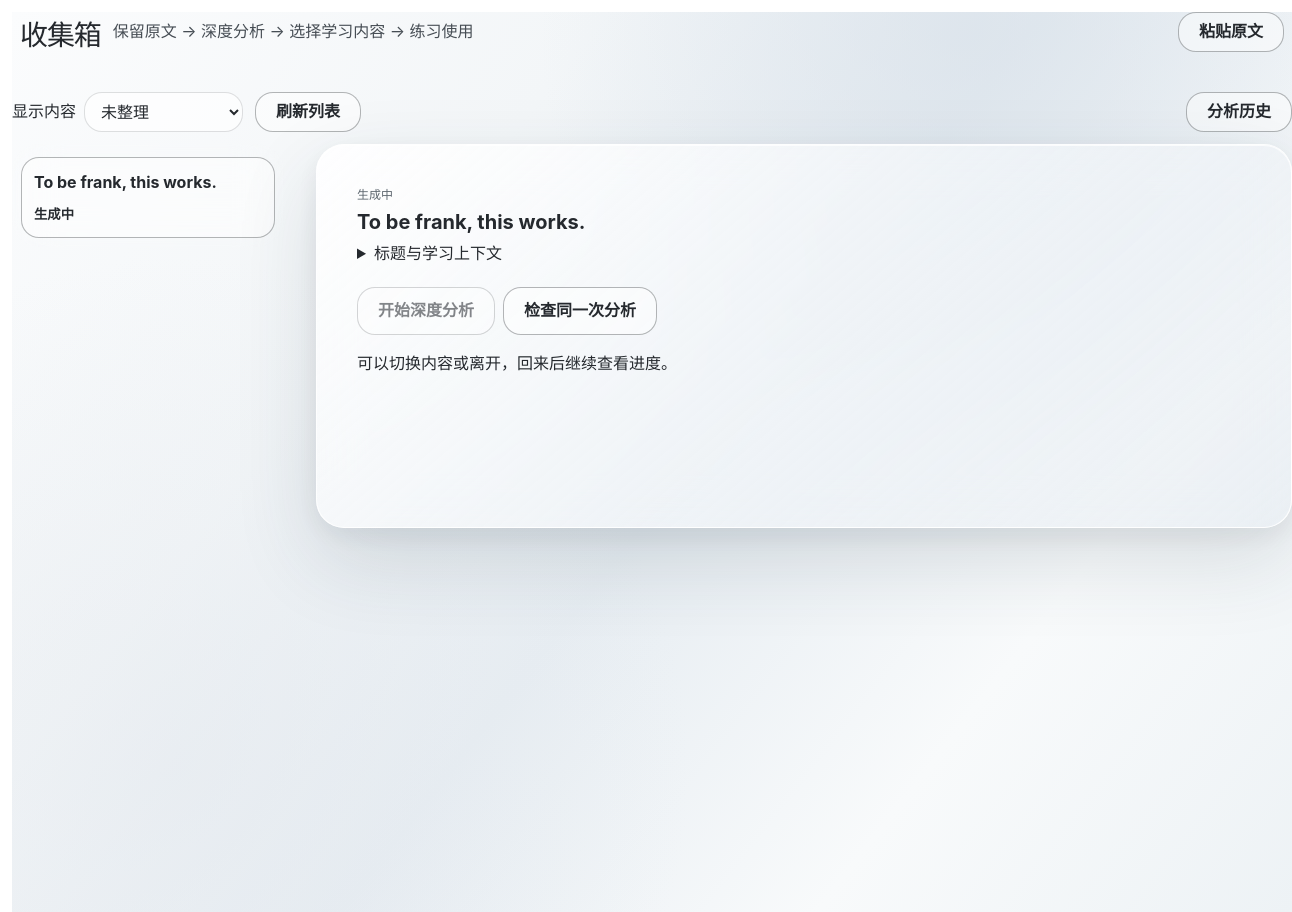
Scenario: recovers a pre-task analysis in failed state without starting another generation
The width and height of the screenshot is (1292, 912).
Check: the button "开始深度分析" is disabled, box x1=357 y1=287 x2=495 y2=335
Click the button "检查同一次分析" at (580, 311), box x1=503 y1=287 x2=657 y2=335
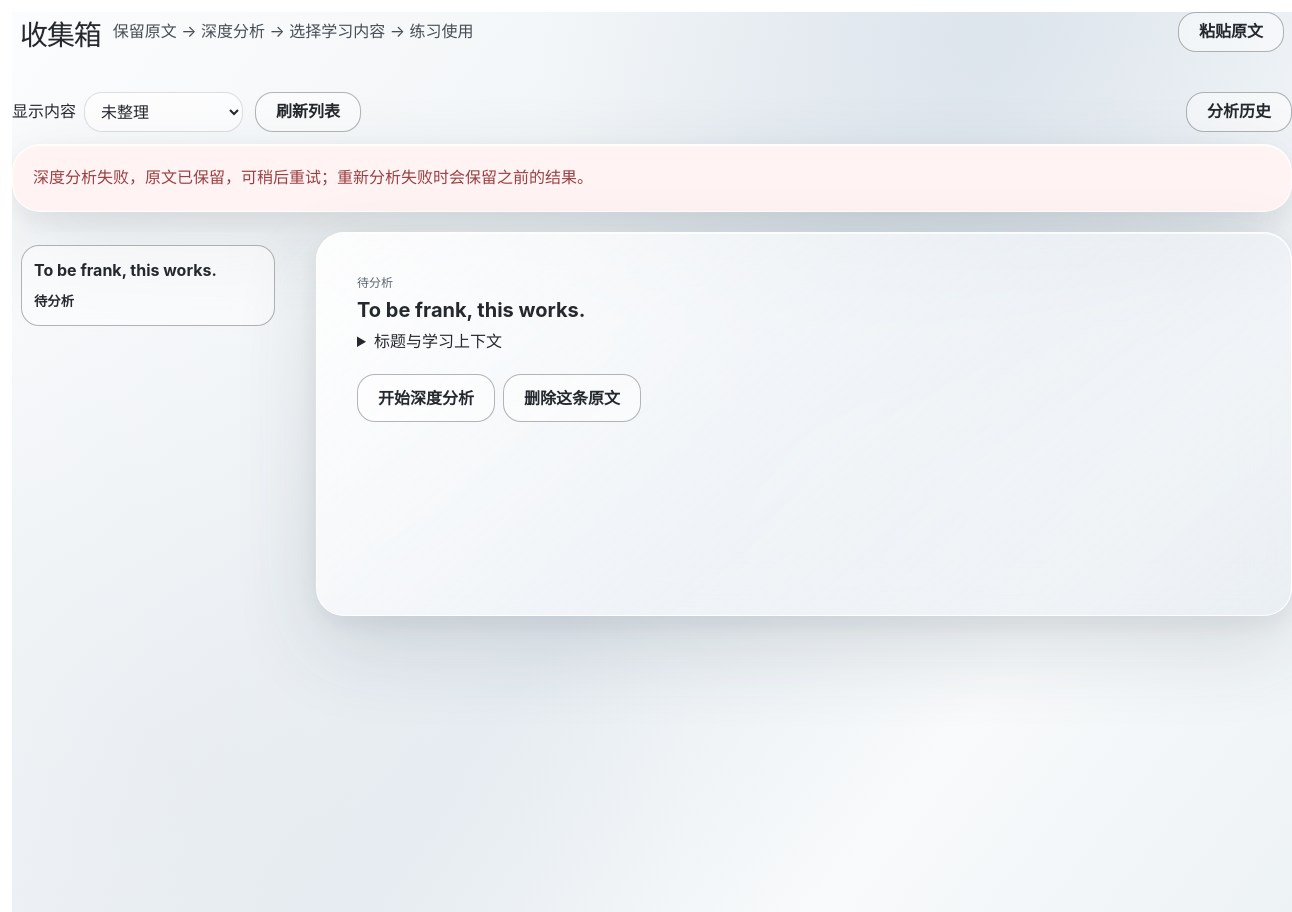
Check: the text "To be frank, this works." is shown, box x1=34 y1=260 x2=217 y2=280
Check: the message "深度分析失败，原文已保留，可稍后重试；重新分析失败时会保留之前的结果。" is shown, box x1=12 y1=144 x2=1291 y2=212
Check: the button "开始深度分析" is enabled, box x1=357 y1=374 x2=495 y2=422
